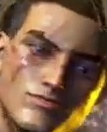kevin: (6, 5, 106, 123)
